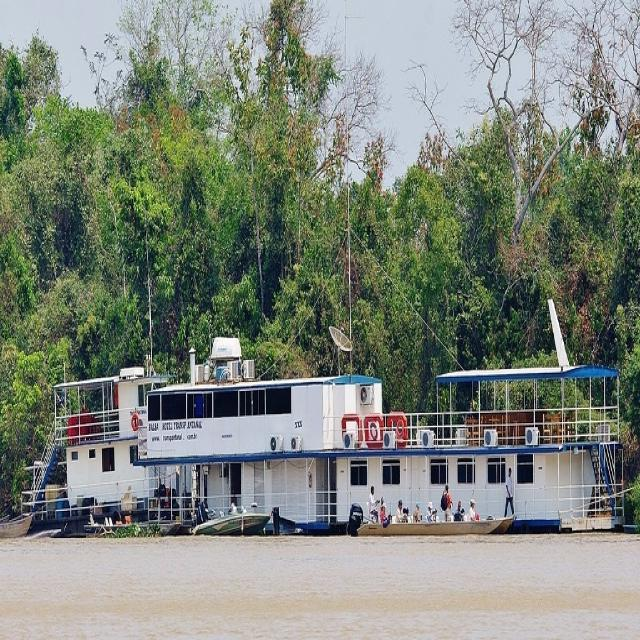Hyacinth: (105, 522, 160, 541)
boat: (36, 340, 628, 537), (353, 512, 515, 536), (188, 506, 268, 542)
